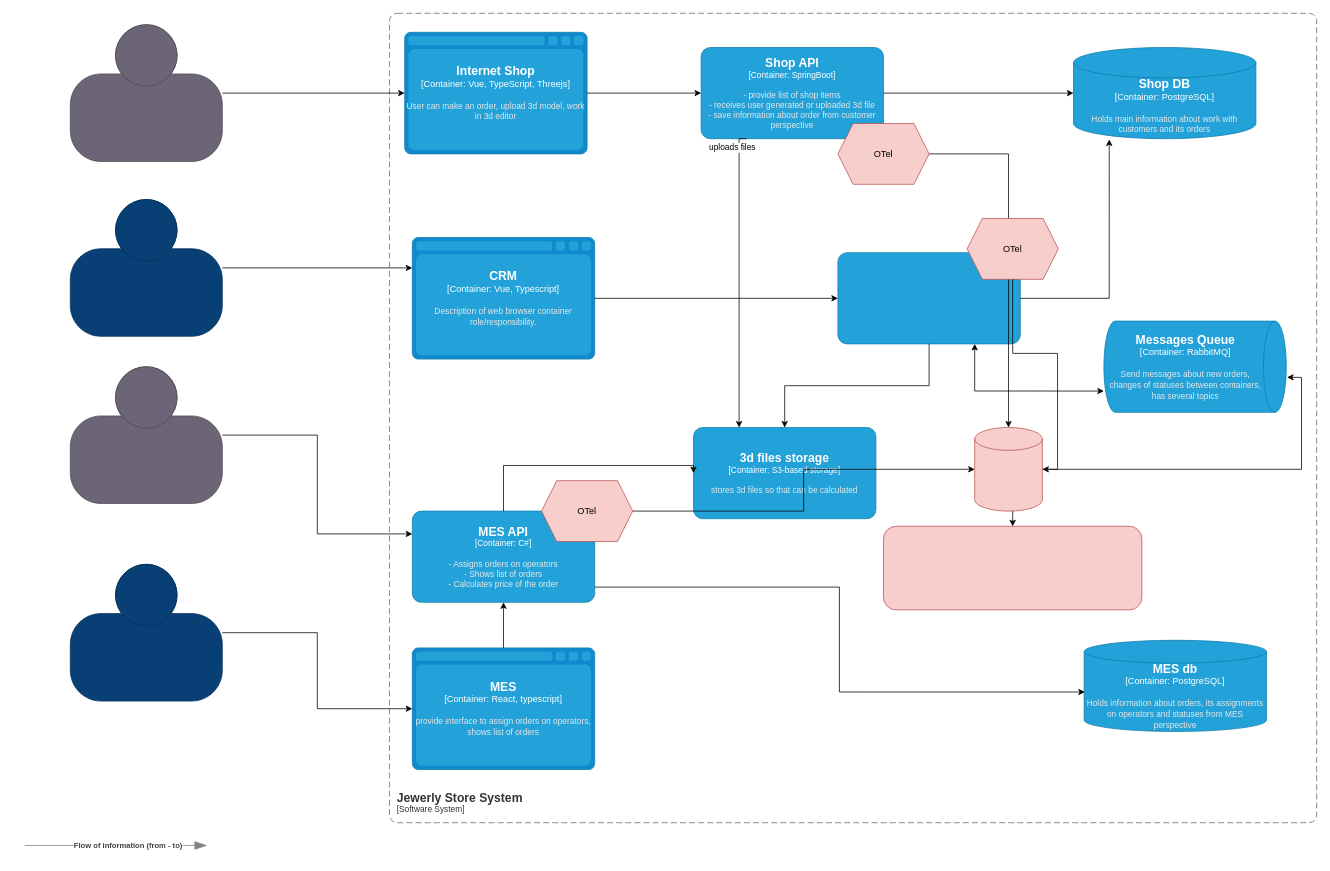
Image size: 1330x871. Some labels were removed from this diagram. Here are the shapes that lost their labels. From the top down, the centre of each, then its label:
[146,93]: Customer [Person] Description of external person.
[146,267]: Seller [Person] Operates with order, confirms manufacturing for the user
[928,298]: CRM API [Container: SpringBoot] Description of container role/responsibility.
[146,435]: API user [Person] Description of external person.
[1008,469]: Jaeger DB
[1012,568]: Jaeger UI
[146,632]: Operator [Person] Takes order in work, manufactures jewerly
